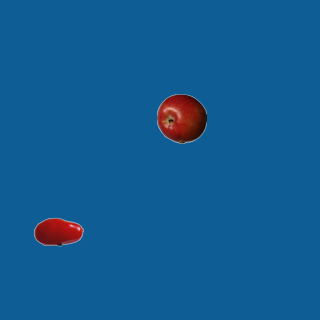Apple Braeburn: (156, 93, 206, 143)
Tomato 2: (33, 206, 83, 256)
